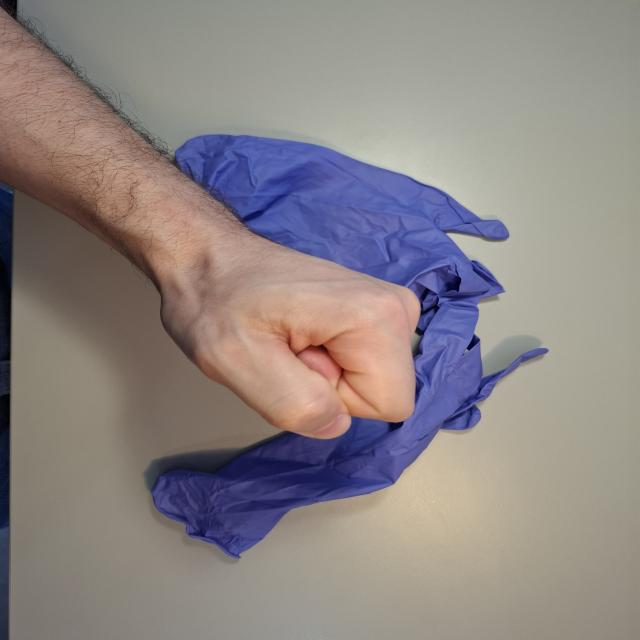glove_off: (144, 216, 424, 442)
